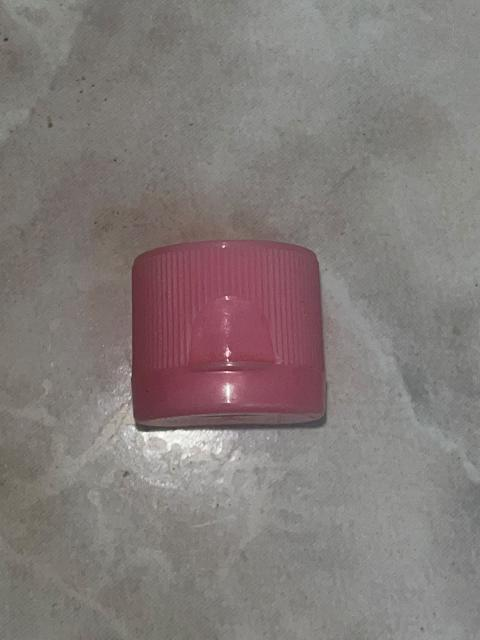HDPE: (85, 180, 387, 483)
